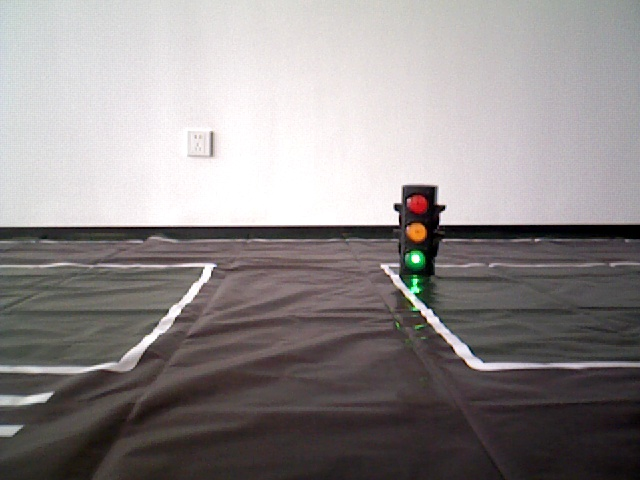green: (401, 190, 427, 270)
